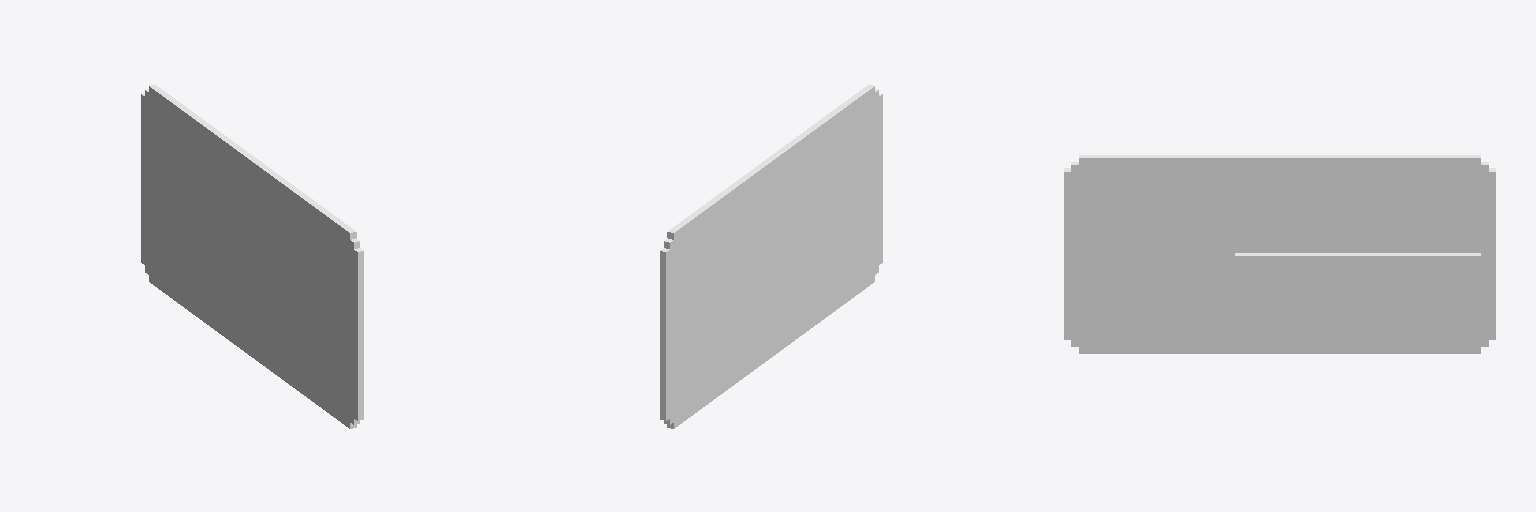
File: decoracao-0.obj
The picture shows the model from 3 angles: view 1: azimuth 30°, elevation 25°; view 2: azimuth 150°, elevation 25°; view 3: azimuth 270°, elevation 25°; orthographic projection.
Parts seen in each view (by area): view 1: object 1; view 2: object 1; view 3: object 1.
Part boxes in pixels (bbox=[...]): object 1: bbox=[141, 84, 363, 428]; object 1: bbox=[660, 84, 882, 428]; object 1: bbox=[1064, 155, 1495, 353].
Bounding box in the file's own units: 0.2 × 2.9 × 5.8.